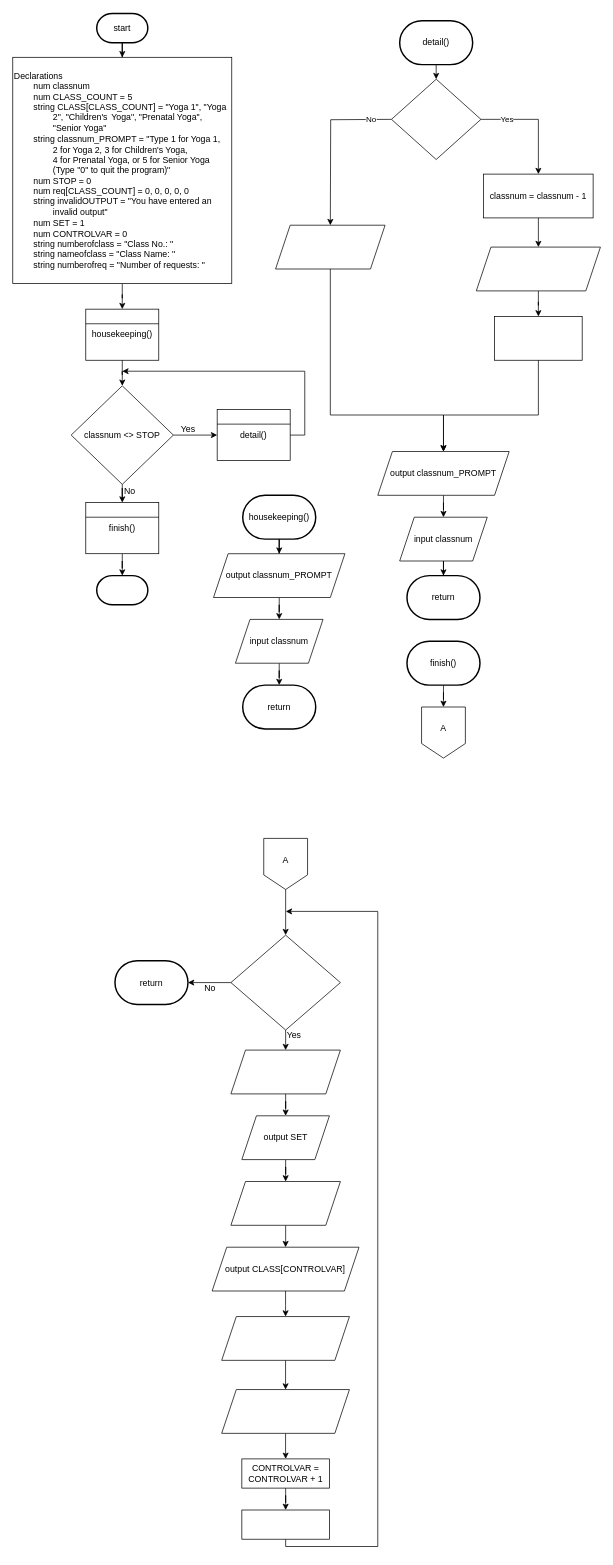
The diagram is 613 pixels wide and 1565 high, and some of its shapes have lost their labels. Here are the shapes that lost their labels. From the top down, the box of each, then its label:
(391, 78, 481, 160): classnum > 0 AND classnum <= 5
(275, 224, 385, 269): output invalidOUTPUT
(476, 246, 600, 291): output CLASS[classnum]
(494, 316, 582, 360): req[classnum] = req[classnum] + 1
(96, 575, 148, 605): stop
(230, 934, 340, 1030): SET <= CLASS_COUNT
(230, 1049, 340, 1094): output numberofclass
(230, 1181, 340, 1225): output nameofclass
(221, 1316, 349, 1360): output numberofreq
(221, 1389, 349, 1433): output req[CONTROLVAR]
(241, 1509, 329, 1539): SET = SET + 1
